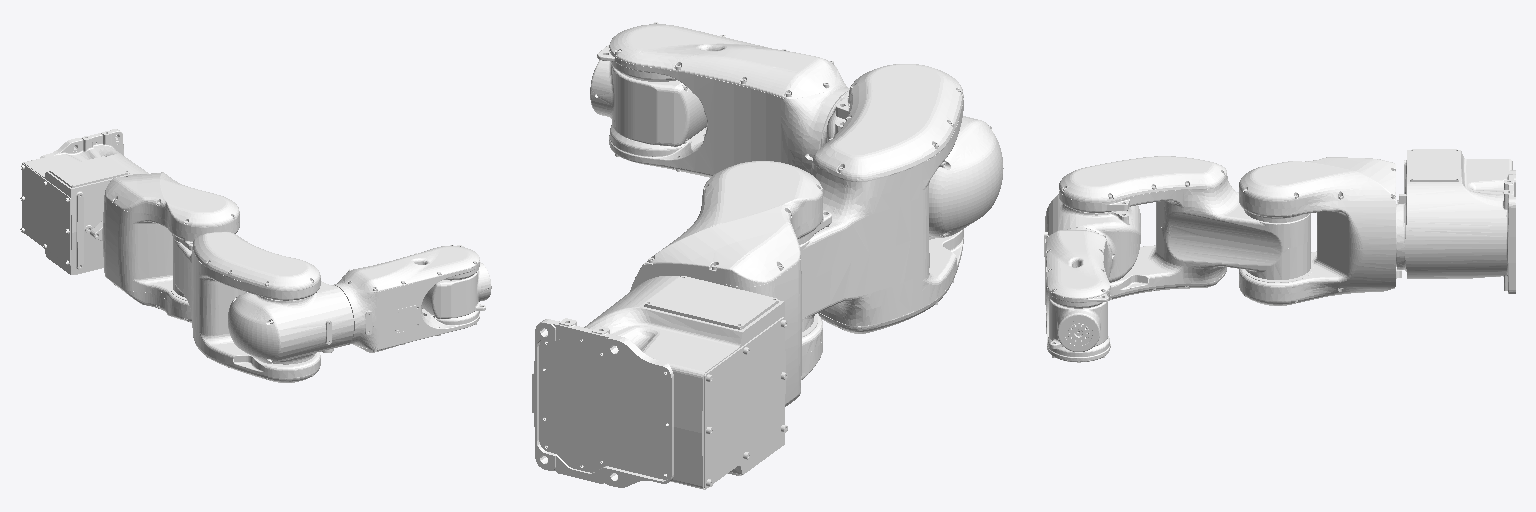
robot.urdf — arm:
<?xml version="1.0" encoding="utf-8"?>
<!-- This URDF was automatically created by SolidWorks to URDF Exporter! Originally created by [author] ([email redacted]) 
     Commit Version: 1.6.0-4-g7f85cfe  Build Version: 1.6.7995.38578
     For more information, please see http://wiki.ros.org/sw_urdf_exporter -->
<robot
  name="arm">
  <link
    name="base_link">
    <inertial>
      <origin
        xyz="0.0298589218198961 -0.289459135628351 0.00349838519341539"
        rpy="0 0 0" />
      <mass
        value="5.83773534684926" />
      <inertia
        ixx="0.272242796761267"
        ixy="0.0840840133459402"
        ixz="0.000602827819831489"
        iyy="0.0819087217960493"
        iyz="0.000661975917566431"
        izz="0.333557134093876" />
    </inertial>
    <visual>
      <origin
        xyz="0 0 0"
        rpy="0 0 0" />
      <geometry>
        <mesh
          filename="package://arm/meshes/base_link.STL" />
      </geometry>
      <material
        name="">
        <color
          rgba="1 1 1 1" />
      </material>
    </visual>
    <collision>
      <origin
        xyz="0 0 0"
        rpy="0 0 0" />
      <geometry>
        <mesh
          filename="package://arm/meshes/base_link.STL" />
      </geometry>
    </collision>
  </link>
  <link
    name="link1">
    <inertial>
      <origin
        xyz="-0.0298589218198977 -0.00349838519341611 0.242459135628349"
        rpy="0 0 0" />
      <mass
        value="5.83773534684926" />
      <inertia
        ixx="0.27224279676126"
        ixy="0.000602827819829954"
        ixz="0.0840840133459392"
        iyy="0.333557134093868"
        iyz="0.000661975917568578"
        izz="0.081908721796048" />
    </inertial>
    <visual>
      <origin
        xyz="0 0 0"
        rpy="0 0 0" />
      <geometry>
        <mesh
          filename="package://arm/meshes/link1.STL" />
      </geometry>
      <material
        name="">
        <color
          rgba="1 1 1 1" />
      </material>
    </visual>
    <collision>
      <origin
        xyz="0 0 0"
        rpy="0 0 0" />
      <geometry>
        <mesh
          filename="package://arm/meshes/link1.STL" />
      </geometry>
    </collision>
  </link>
  <joint
    name="joint1"
    type="revolute">
    <origin
      xyz="0 -0.047 0"
      rpy="-1.5708 0 3.1416" />
    <parent
      link="base_link" />
    <child
      link="link1" />
    <axis
      xyz="0 0 1" />
    <limit
      lower="-2.1"
      upper="2.1"
      effort="0"
      velocity="0" />
  </joint>
  <link
    name="link2">
    <inertial>
      <origin
        xyz="-0.0221686427482291 0.00349838519341531 0.0398439270052678"
        rpy="0 0 0" />
      <mass
        value="5.83773534684926" />
      <inertia
        ixx="0.158221740998495"
        ixy="0.000828233142214561"
        ixz="0.125584283723192"
        iyy="0.333557134093868"
        iyz="0.000340063755696033"
        izz="0.195929777558813" />
    </inertial>
    <visual>
      <origin
        xyz="0 0 0"
        rpy="0 0 0" />
      <geometry>
        <mesh
          filename="package://arm/meshes/link2.STL" />
      </geometry>
      <material
        name="">
        <color
          rgba="1 1 1 1" />
      </material>
    </visual>
    <collision>
      <origin
        xyz="0 0 0"
        rpy="0 0 0" />
      <geometry>
        <mesh
          filename="package://arm/meshes/link2.STL" />
      </geometry>
    </collision>
  </link>
  <joint
    name="joint2"
    type="revolute">
    <origin
      xyz="0 0 0.208"
      rpy="0 1.2217 -3.1416" />
    <parent
      link="link1" />
    <child
      link="link2" />
    <axis
      xyz="0 -1 0" />
    <limit
      lower="-1.3"
      upper="1.046"
      effort="0"
      velocity="0" />
  </joint>
  <link
    name="link3">
    <inertial>
      <origin
        xyz="-0.0034983851934161 0.225540864371653 0.029858921819878"
        rpy="0 0 0" />
      <mass
        value="5.83773534684926" />
      <inertia
        ixx="0.333557134093868"
        ixy="-0.000661975917568616"
        ixz="-0.000602827819829908"
        iyy="0.0819087217960627"
        iyz="0.0840840133459558"
        izz="0.272242796761245" />
    </inertial>
    <visual>
      <origin
        xyz="0 0 0"
        rpy="0 0 0" />
      <geometry>
        <mesh
          filename="package://arm/meshes/link3.STL" />
      </geometry>
      <material
        name="">
        <color
          rgba="1 1 1 1" />
      </material>
    </visual>
    <collision>
      <origin
        xyz="0 0 0"
        rpy="0 0 0" />
      <geometry>
        <mesh
          filename="package://arm/meshes/link3.STL" />
      </geometry>
    </collision>
  </link>
  <joint
    name="joint3"
    type="revolute">
    <origin
      xyz="-0.24432 0 0.088925"
      rpy="-0.34907 0 -1.5708" />
    <parent
      link="link2" />
    <child
      link="link3" />
    <axis
      xyz="1 0 0" />
    <limit
      lower="-0.61"
      upper="2.965"
      effort="0"
      velocity="0" />
  </joint>
  <link
    name="link4">
    <inertial>
      <origin
        xyz="-0.250540864371647 0.00344838519341907 0.00664107818009065"
        rpy="0 0 0" />
      <mass
        value="5.83773534684926" />
      <inertia
        ixx="0.081908721796048"
        ixy="-0.000661975917566328"
        ixz="0.0840840133459392"
        iyy="0.333557134093868"
        iyz="-0.000602827819831595"
        izz="0.27224279676126" />
    </inertial>
    <visual>
      <origin
        xyz="0 0 0"
        rpy="0 0 0" />
      <geometry>
        <mesh
          filename="package://arm/meshes/link4.STL" />
      </geometry>
      <material
        name="">
        <color
          rgba="1 1 1 1" />
      </material>
    </visual>
    <collision>
      <origin
        xyz="0 0 0"
        rpy="0 0 0" />
      <geometry>
        <mesh
          filename="package://arm/meshes/link4.STL" />
      </geometry>
    </collision>
  </link>
  <joint
    name="joint4"
    type="revolute">
    <origin
      xyz="-5E-05 -0.025 0.0365"
      rpy="-3.1416 0 -1.5708" />
    <parent
      link="link3" />
    <child
      link="link4" />
    <axis
      xyz="0 0 1" />
    <limit
      lower="-3.14"
      upper="3.14"
      effort="0"
      velocity="0" />
  </joint>
  <link
    name="link5">
    <inertial>
      <origin
        xyz="0.250141078180099 0.00344838519341863 0.25054086437167"
        rpy="0 0 0" />
      <mass
        value="5.83773534684926" />
      <inertia
        ixx="0.27224279676126"
        ixy="-0.000602827819829894"
        ixz="-0.0840840133459392"
        iyy="0.333557134093868"
        iyz="0.000661975917568661"
        izz="0.081908721796048" />
    </inertial>
    <visual>
      <origin
        xyz="0 0 0"
        rpy="0 0 0" />
      <geometry>
        <mesh
          filename="package://arm/meshes/link5.STL" />
      </geometry>
      <material
        name="">
        <color
          rgba="1 1 1 1" />
      </material>
    </visual>
    <collision>
      <origin
        xyz="0 0 0"
        rpy="0 0 0" />
      <geometry>
        <mesh
          filename="package://arm/meshes/link5.STL" />
      </geometry>
    </collision>
  </link>
  <joint
    name="joint5"
    type="revolute">
    <origin
      xyz="0 0 -0.2435"
      rpy="3.1416 -1.5708 0" />
    <parent
      link="link4" />
    <child
      link="link5" />
    <axis
      xyz="0 1 0" />
    <limit
      lower="-1.919"
      upper="1.919"
      effort="0"
      velocity="0" />
  </joint>
  <link
    name="link6">
    <inertial>
      <origin
        xyz="0.283641078180096 0.218698945828686 0.122284043006308"
        rpy="0 0 0" />
      <mass
        value="5.83773534684926" />
      <inertia
        ixx="0.27224279676126"
        ixy="-0.0731203055196466"
        ixz="-0.0415199424668908"
        iyy="0.145394112831817"
        iyz="-0.109297946894754"
        izz="0.270071743058099" />
    </inertial>
    <visual>
      <origin
        xyz="0 0 0"
        rpy="0 0 0" />
      <geometry>
        <mesh
          filename="package://arm/meshes/link6.STL" />
      </geometry>
      <material
        name="">
        <color
          rgba="1 1 1 1" />
      </material>
    </visual>
    <collision>
      <origin
        xyz="0 0 0"
        rpy="0 0 0" />
      <geometry>
        <mesh
          filename="package://arm/meshes/link6.STL" />
      </geometry>
    </collision>
  </link>
  <joint
    name="joint6"
    type="revolute">
    <origin
      xyz="-0.0335 0 0"
      rpy="0 0 0" />
    <parent
      link="link5" />
    <child
      link="link6" />
    <axis
      xyz="1 0 0" />
    <limit
      lower="-3.14"
      upper="3.14"
      effort="0"
      velocity="0" />
  </joint>
</robot>

--- What the picture shows (computed from the rendered views, not written in the file) ---
Views: 3 orthographic renders of the robot side by side, from view 1: azimuth 30°, elevation 25°; view 2: azimuth 150°, elevation 25°; view 3: azimuth 270°, elevation 25°.
Robot: arm — 7 links, 6 joints (6 revolute); root link base_link; default pose: all joints at 0.
Visible links, largest first — view 1: link1, link2, base_link, link4, link3, link5; view 2: base_link, link2, link4, link1, link3, link5; view 3: link2, link1, base_link, link4, link3, link5, link6.
Boxes of the visible links, left/top/right/bottom form: link1: left=90, top=172, right=239, bottom=322; link2: left=173, top=232, right=320, bottom=382; base_link: left=20, top=129, right=148, bottom=274; link4: left=334, top=245, right=479, bottom=352; link3: left=228, top=281, right=353, bottom=364; link5: left=422, top=262, right=491, bottom=318; base_link: left=532, top=276, right=787, bottom=489; link2: left=791, top=64, right=963, bottom=333; link4: left=597, top=22, right=849, bottom=177; link1: left=630, top=161, right=831, bottom=406; link3: left=820, top=91, right=1003, bottom=239; link5: left=590, top=60, right=706, bottom=146; link2: left=1059, top=156, right=1310, bottom=300; link1: left=1239, top=157, right=1401, bottom=305; base_link: left=1396, top=149, right=1515, bottom=293; link4: left=1045, top=228, right=1111, bottom=362; link3: left=1044, top=194, right=1140, bottom=282; link5: left=1049, top=298, right=1107, bottom=351; link6: left=1060, top=316, right=1097, bottom=350.
Bounding box of the posed robot: 0.4683 × 0.6741 × 0.1891 m (x, y, z).
Meshes: 7 distinct files referenced, 7 mesh visuals loaded (7 binary STL).